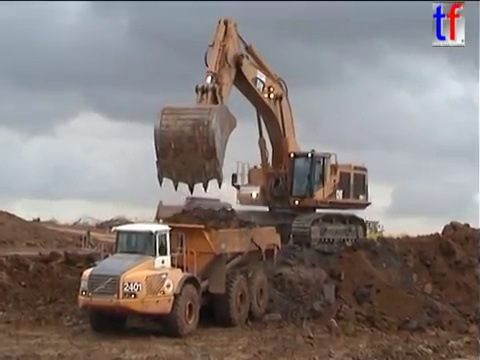excavator: (150, 14, 374, 256)
motor grader: (348, 216, 388, 244)
truck: (75, 220, 283, 339), (152, 194, 237, 239)
